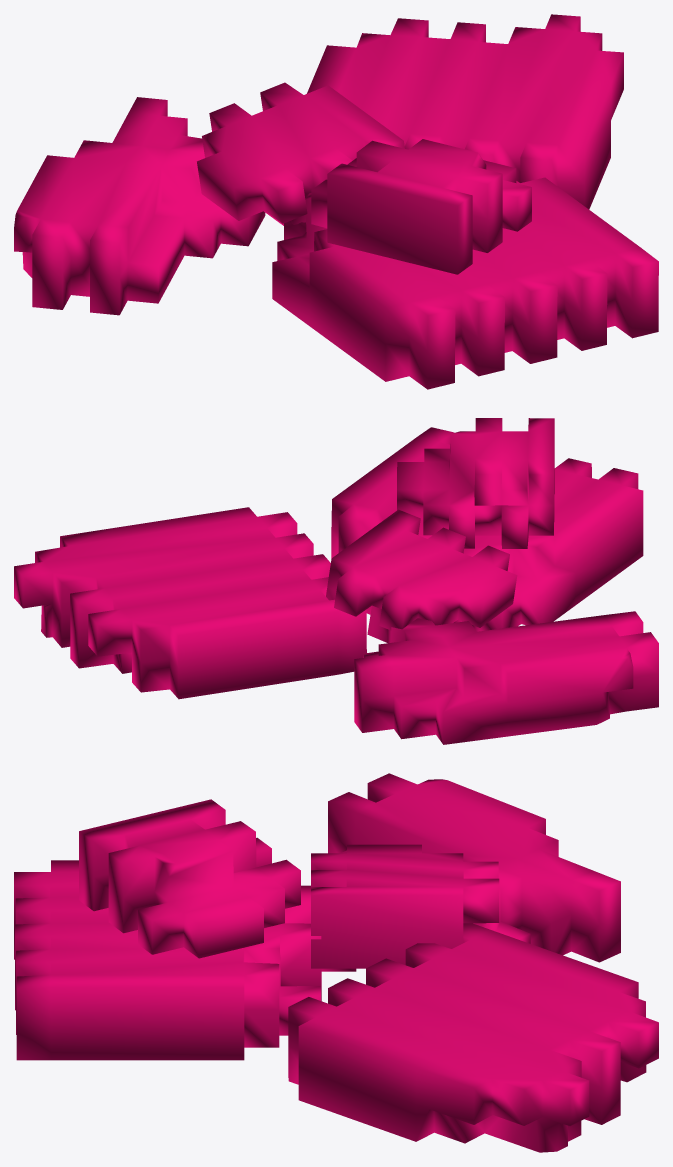
File: Brick_Break_06_Lod0.fbx
3 views of the same model, one above another, from view 1: azimuth 30°, elevation 25°; view 2: azimuth 150°, elevation 25°; view 3: azimuth 270°, elevation 25° (orthographic). The views are drawn at different scales.
Visible parts, largest first — view 1: Brick_Break_06_Lod0; view 2: Brick_Break_06_Lod0; view 3: Brick_Break_06_Lod0.
Boxes of the visible parts, x1,y1,x2,y2 form: Brick_Break_06_Lod0: (14,14,658,389); Brick_Break_06_Lod0: (14,418,658,744); Brick_Break_06_Lod0: (14,773,658,1152).
Bounding box in the file's own units: 191 × 43.66 × 165.
